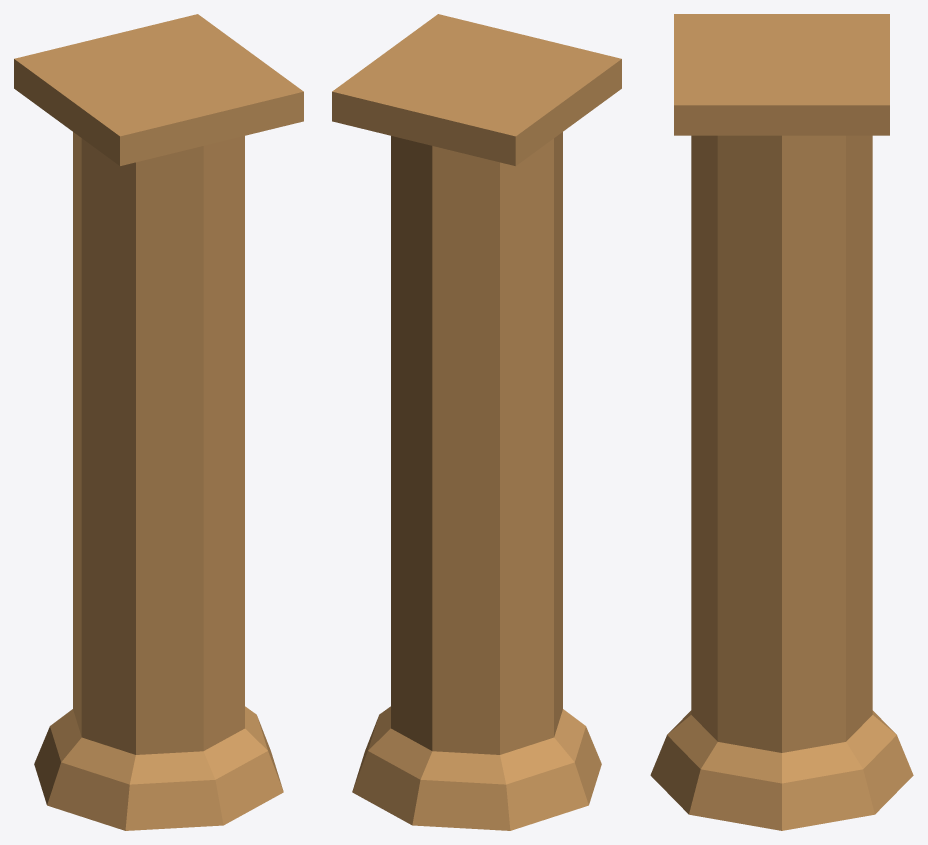
Rendered from egypt_egypt-pillar-proto-doric.fbx.
3 renders of one model, left to right at view 1: azimuth 30°, elevation 25°; view 2: azimuth 150°, elevation 25°; view 3: azimuth 270°, elevation 25°, orthographic.
Parts seen in each view (by area): view 1: egypt_egypt_pillar_proto_doric; view 2: egypt_egypt_pillar_proto_doric; view 3: egypt_egypt_pillar_proto_doric.
Boxes of the visible parts, x1=… form: egypt_egypt_pillar_proto_doric: x1=14, y1=14, x2=303, y2=830; egypt_egypt_pillar_proto_doric: x1=332, y1=14, x2=621, y2=830; egypt_egypt_pillar_proto_doric: x1=650, y1=14, x2=913, y2=830.
Bounding box in the file's own units: 66.67 × 200 × 66.67.
